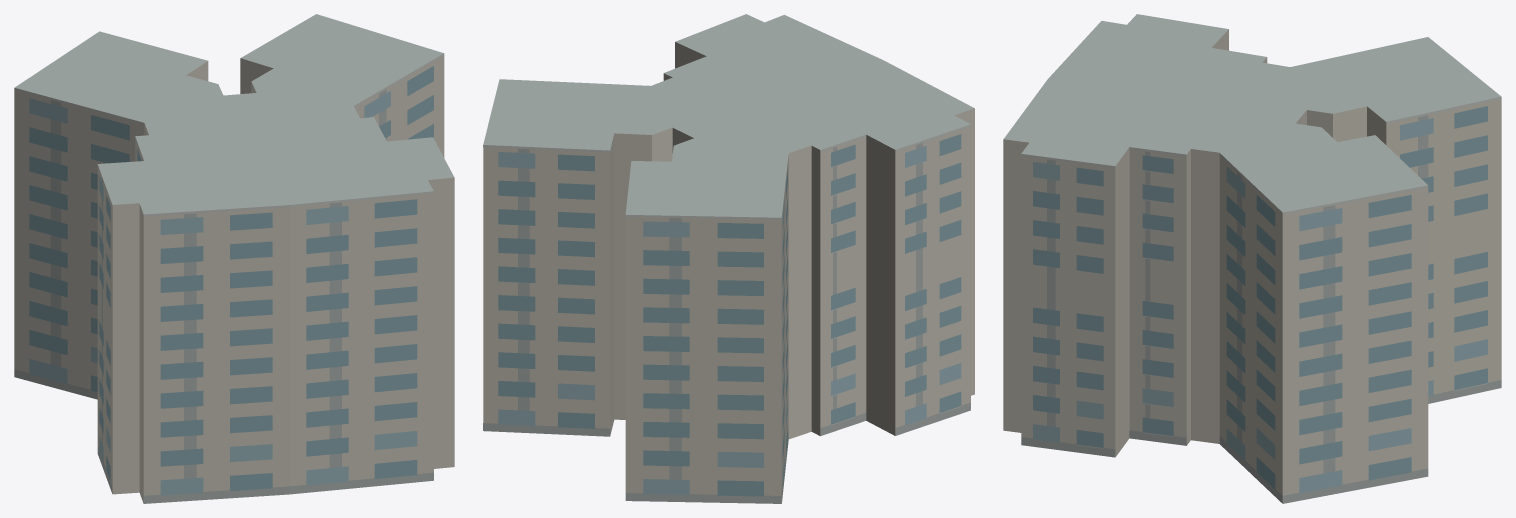
Rendered from residential-f8a463e8-81e6-4484-b706-555e1b0f8f26.glb.
3 renders of one model, left to right at view 1: azimuth 30°, elevation 25°; view 2: azimuth 150°, elevation 25°; view 3: azimuth 270°, elevation 25°, orthographic.
Parts seen in each view (by area): view 1: residential-f8a463e8-81e6-4484-b706-555e1b0f8f26.tmp; view 2: residential-f8a463e8-81e6-4484-b706-555e1b0f8f26.tmp; view 3: residential-f8a463e8-81e6-4484-b706-555e1b0f8f26.tmp.
Part boxes in pixels (x1,y1,x2,y2): residential-f8a463e8-81e6-4484-b706-555e1b0f8f26.tmp: (14, 14, 454, 503); residential-f8a463e8-81e6-4484-b706-555e1b0f8f26.tmp: (483, 14, 974, 503); residential-f8a463e8-81e6-4484-b706-555e1b0f8f26.tmp: (1003, 14, 1501, 503).
Bounding box in the file's own units: 43.87 × 30 × 46.5.
